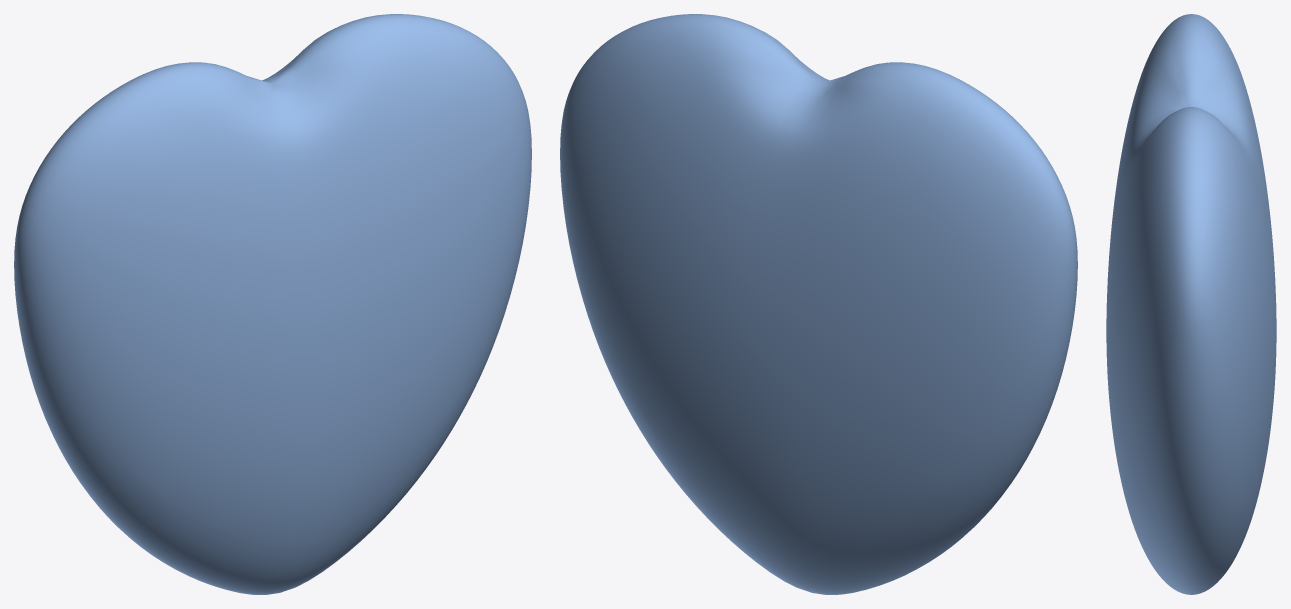
File: blue.glb
3 renders of one model, left to right at view 1: azimuth 30°, elevation 25°; view 2: azimuth 150°, elevation 25°; view 3: azimuth 270°, elevation 25°, orthographic. The views are drawn at different scales.
Visible parts, largest first — view 1: Cube; view 2: Cube; view 3: Cube.
Part boxes in pixels (bbox=[...]): Cube: bbox=[14, 14, 531, 594]; Cube: bbox=[560, 14, 1077, 594]; Cube: bbox=[1106, 14, 1276, 594].
Bounding box in the file's own units: 10.65 × 10.93 × 3.29.
